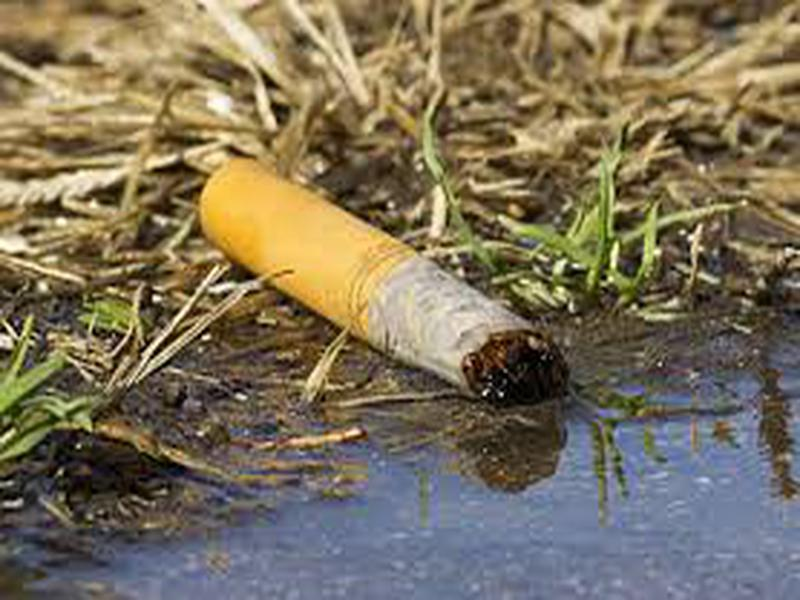burned_cigarette: (191, 157, 573, 408)
